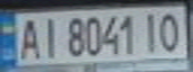0: (81, 12, 106, 57)
1: (118, 11, 139, 55)
4: (103, 11, 121, 56)
8: (63, 14, 87, 57)
A: (15, 16, 42, 61)
I: (36, 15, 63, 60), (139, 9, 163, 54)
O: (154, 9, 187, 53)
